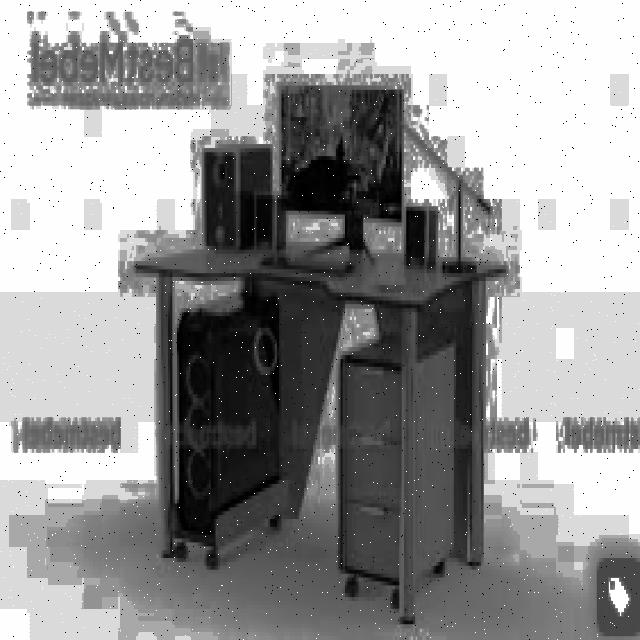table: (134, 238, 508, 621)
